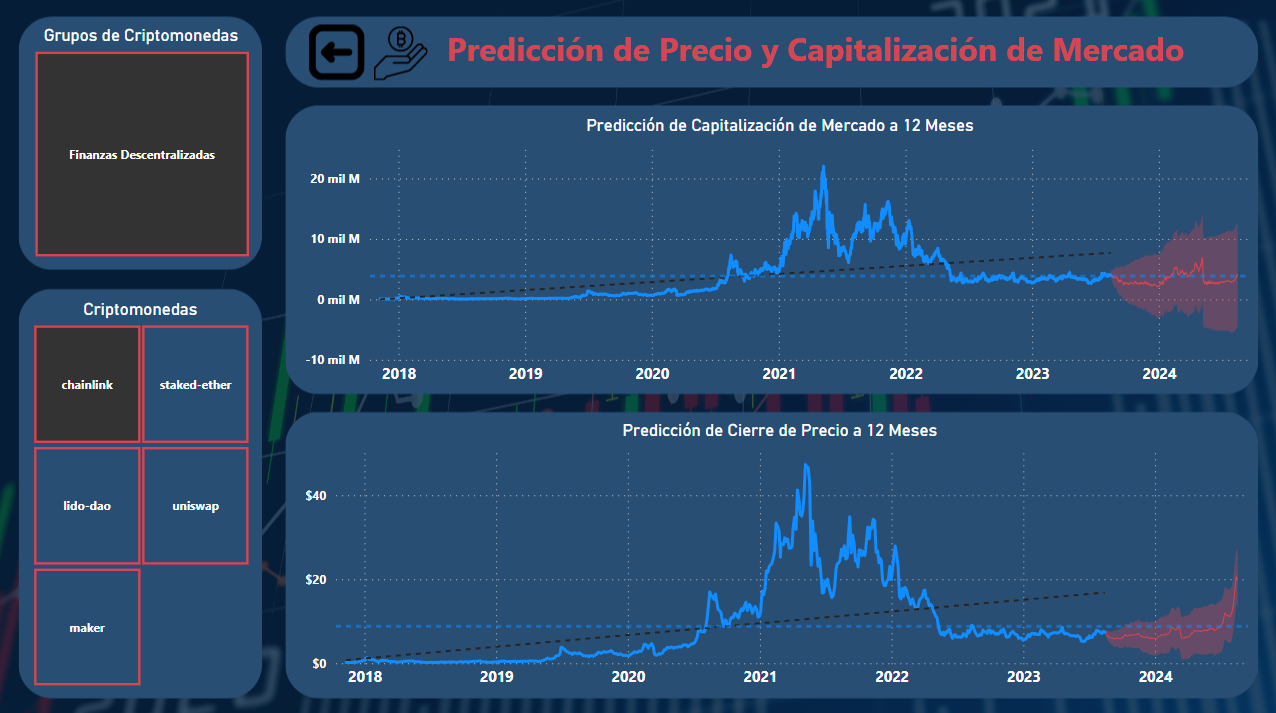

The page's visual inventory and layout, read from the dashboard file:
{"tool":"powerbi","page":{"name":"Predicción 12 Meses","canvas":[1280,720],"ordinal":4},"visuals":[{"type":"lineChart","title":"Predicción de Capitalización de Mercado a 12 Meses","fields":{"Category":["combinado_completo.date"],"Y":["Avg(combinado_completo.market_caps)"]},"box":[300.6,115.6,959.4,278.8],"z":0},{"type":"lineChart","title":"Predicción de Cierre de Precio a 12 Meses","fields":{"Category":["combinado_completo.date"],"Y":["Avg(combinado_completo.close)"]},"box":[300.9,421.8,959.1,277.3],"z":1000},{"type":"textbox","box":[442.7,22.7,797.3,80.9],"z":2000},{"type":"slicer","title":"Grupos de Criptomonedas","fields":{"Values":["combinado_completo.Grupos de Criptomonedas"]},"box":[10,26.4,263.6,238.2],"z":3000},{"type":"slicer","title":"Criptomonedas","fields":{"Values":["combinado_completo.id"]},"box":[8.1,299.4,265,393.8],"z":4000},{"type":"actionButton","box":[308.3,22.9,58.6,48.4],"z":5000}]}

Visuals, with their boxes in screenshot pixels (x1, y1, x2, y2), scaled from the page's 1280x720 canvas onto the 1276x713 screenshot:
"Predicción de Capitalización de Mercado a 12 Meses" lineChart: bbox=(300, 114, 1256, 391)
"Predicción de Cierre de Precio a 12 Meses" lineChart: bbox=(300, 418, 1256, 692)
textbox: bbox=(441, 22, 1236, 103)
"Grupos de Criptomonedas" slicer: bbox=(10, 26, 273, 262)
"Criptomonedas" slicer: bbox=(8, 296, 272, 686)
actionButton: bbox=(307, 23, 366, 71)
